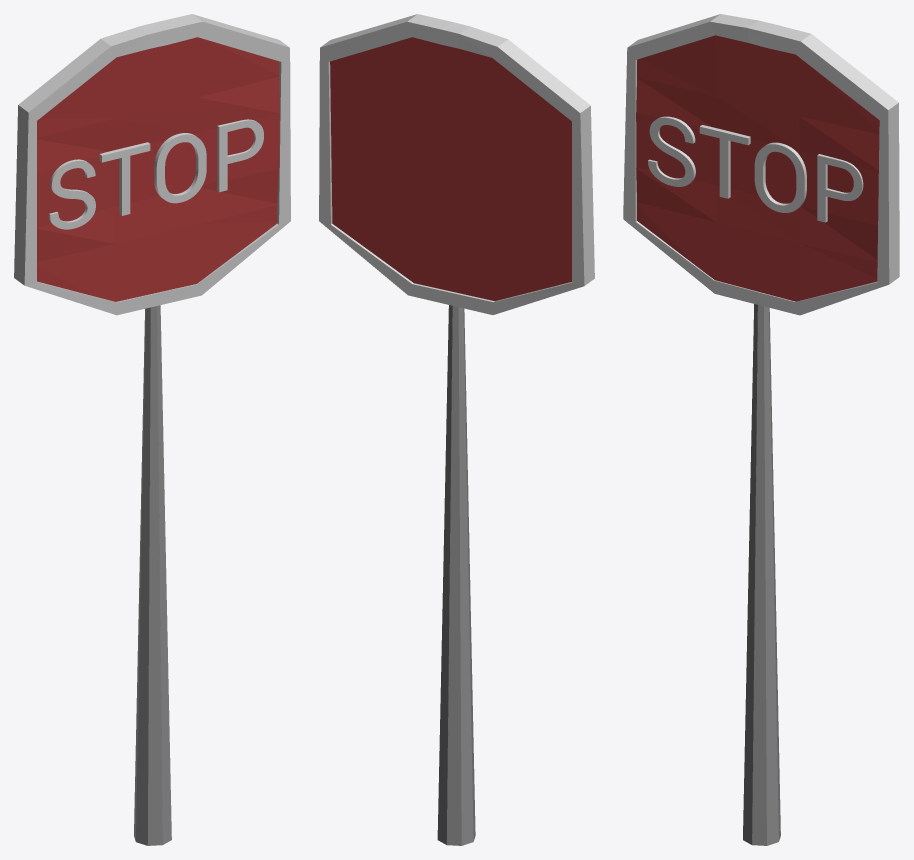
Rendered from c4ce0bcf-560c-4664-9df2-460c1d65c154.glb.
3 views of the same model, side by side, from view 1: azimuth 30°, elevation 25°; view 2: azimuth 150°, elevation 25°; view 3: azimuth 330°, elevation 25° (orthographic).
Visible parts, largest first — view 1: Node; view 2: Node; view 3: Node.
Part boxes in pixels (x1=…): Node: x1=14, y1=14, x2=290, y2=845; Node: x1=319, y1=14, x2=594, y2=845; Node: x1=623, y1=14, x2=899, y2=845.
Bounding box in the file's own units: 97.14 × 283 × 12.44.
1 material, 1 textured.
